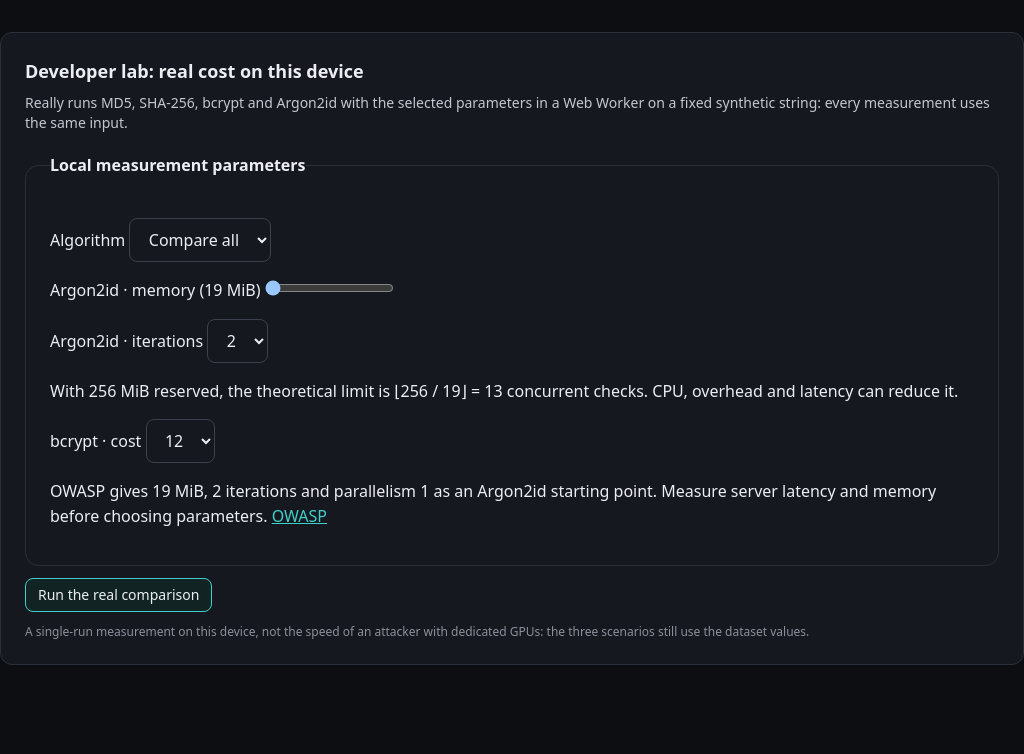
Test case: LocalKdfLab › runs all four algorithms and labels the outcome measured/derived
Click the button "Run the real comparison".
click(119, 595)  # box x1=25 y1=578 x2=212 y2=612
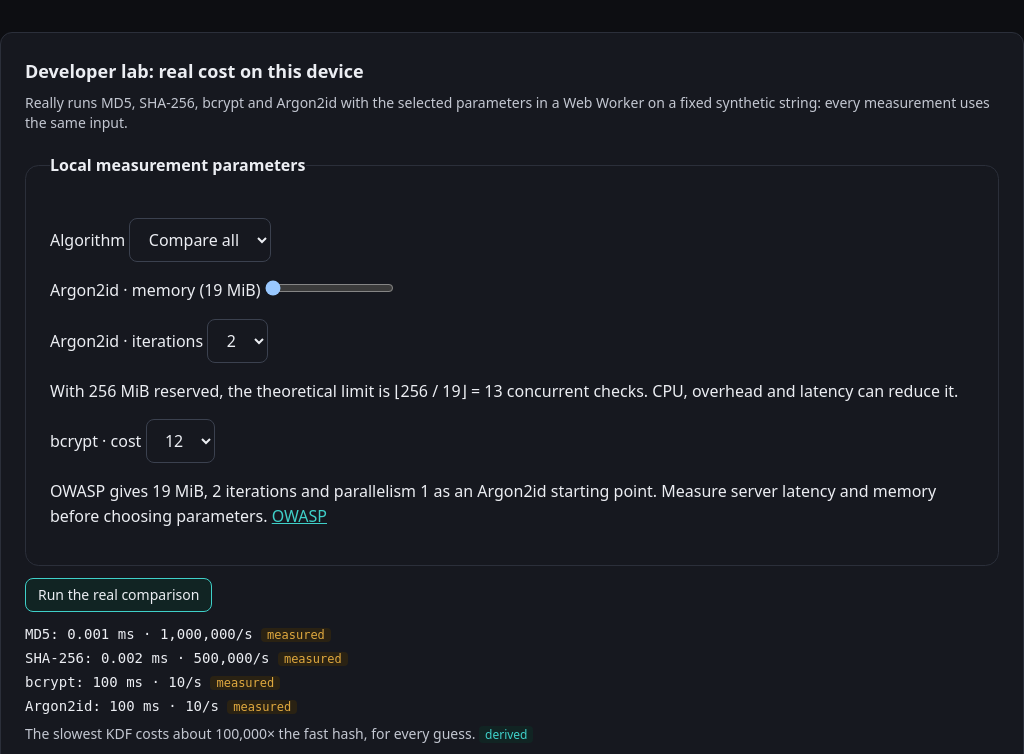
Check: the text "slowest KDF costs" is shown, box x1=25 y1=724 x2=475 y2=743
Check: the text "measured" is shown 4 times, box x1=261 y1=628 x2=331 y2=642; x1=278 y1=652 x2=348 y2=666; x1=210 y1=676 x2=280 y2=690; x1=227 y1=700 x2=297 y2=714
Check: the text "derived" is shown, box x1=479 y1=726 x2=534 y2=743
